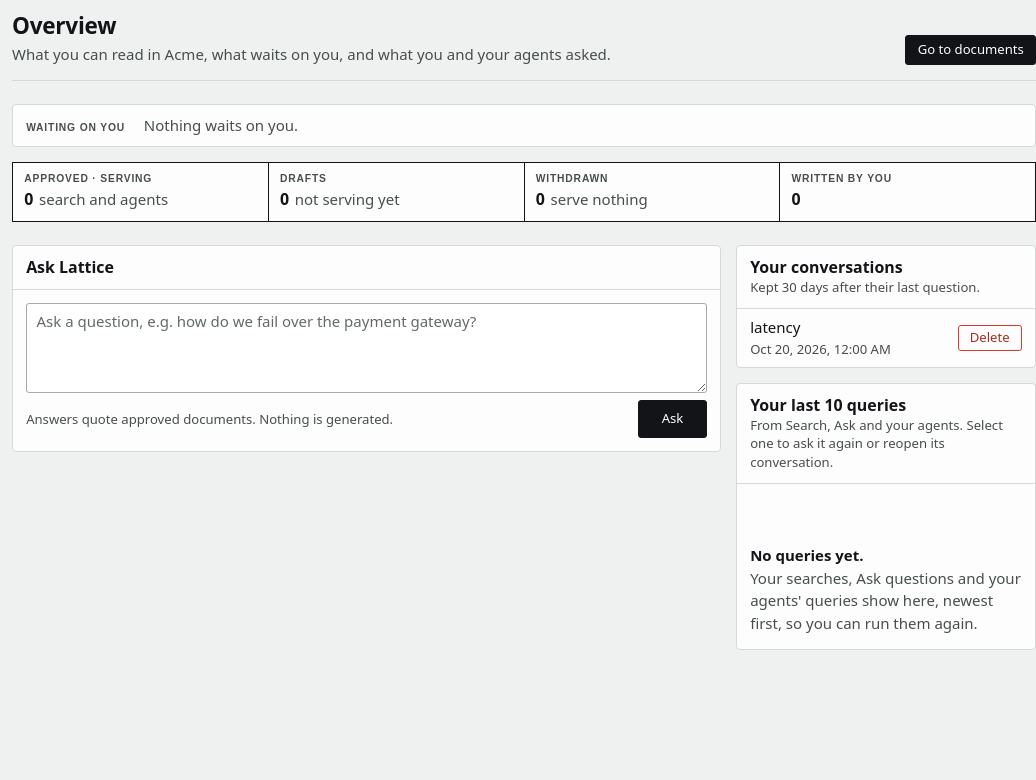
Scenario: Overview with AI answers on › shows a conversation in a disconnected workspace read-only, without the composer
Click the button with aria-label "Open conversation: latency" at (850, 338), box [750,316,950,359]
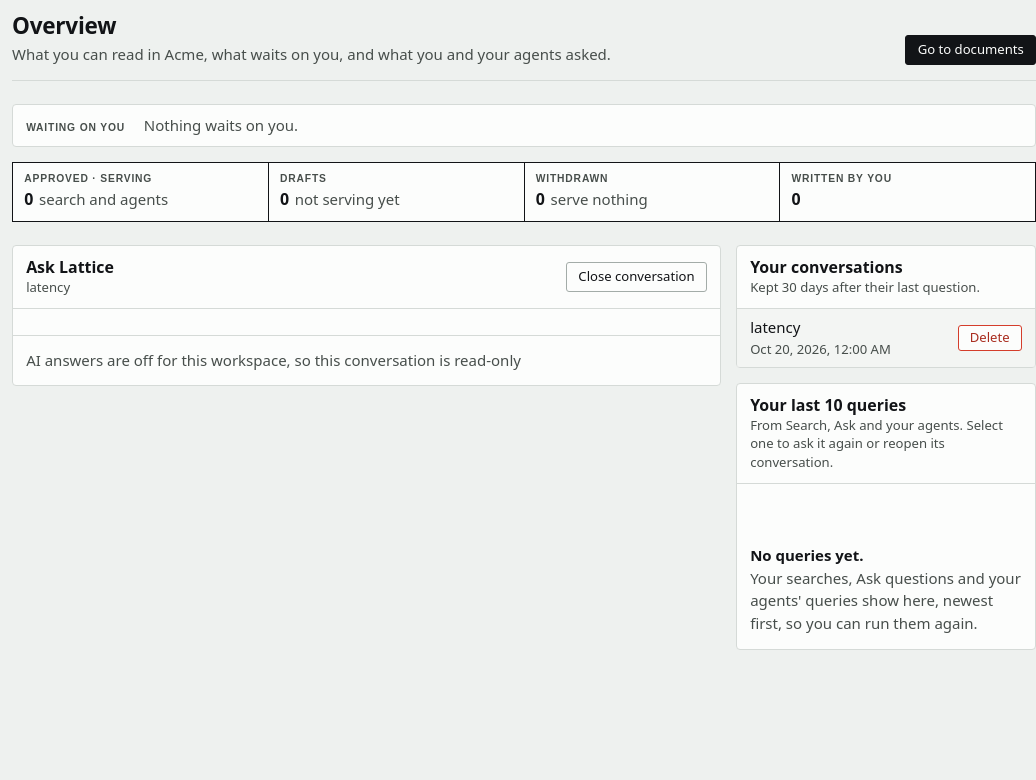
Result: the text "AI answers are off for this workspace, so this conversation is read-only" is shown at [13,335,720,385]
